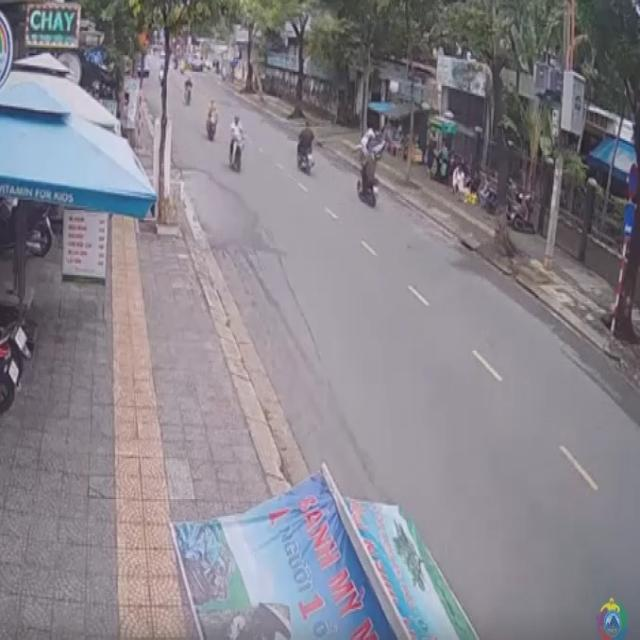motorbike: (227, 114, 246, 178), (358, 149, 378, 208), (296, 119, 316, 176), (204, 98, 218, 144)
